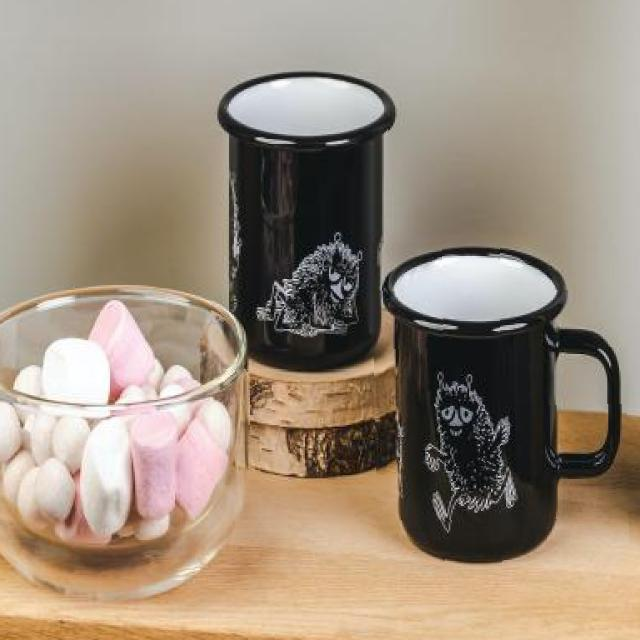cup: (372, 238, 629, 571), (212, 66, 388, 370)
